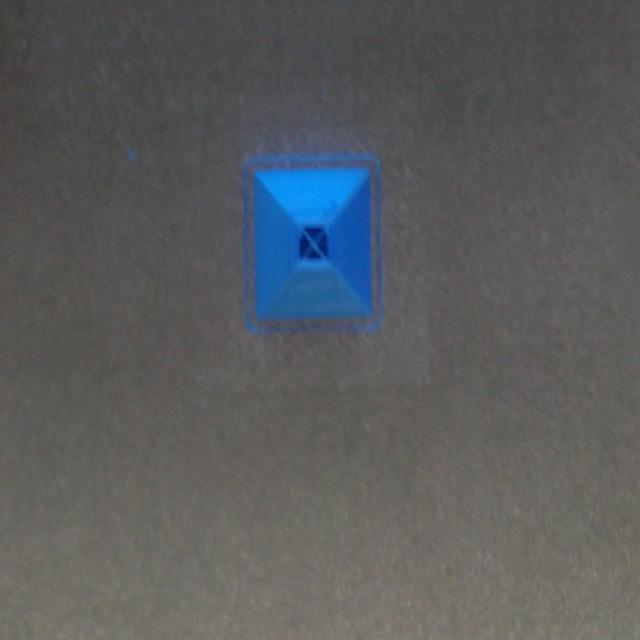mistake: (299, 221, 330, 260)
